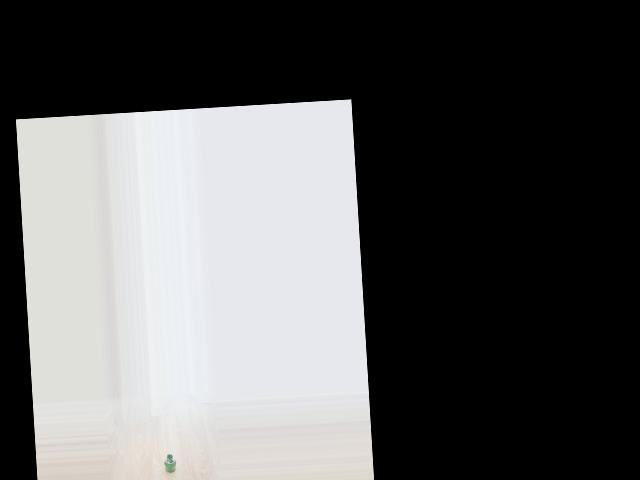beer: (163, 453, 176, 473)
